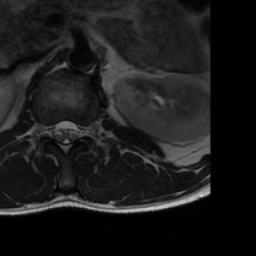CCS_normal: (59, 112, 69, 160)
LFS_normal: (78, 112, 89, 144)
LLS_normal: (69, 111, 78, 149)
RFS_normal: (40, 115, 50, 145)
RLS_normal: (50, 113, 59, 147)
